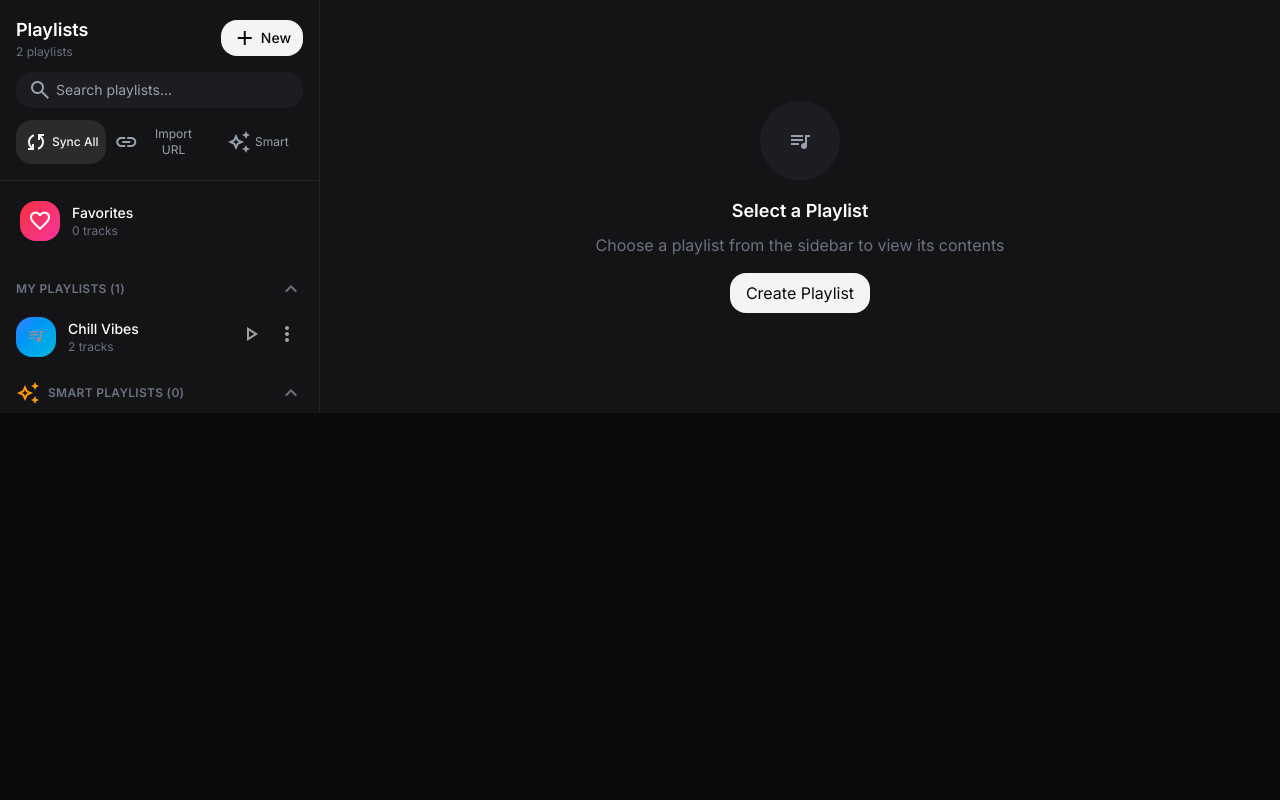
PlaylistView › Modo B queues only non-downloaded tracks via add_batch_to_queue with Library defaults
Click the element with class "group" at [36, 337], box [8,309,311,365]
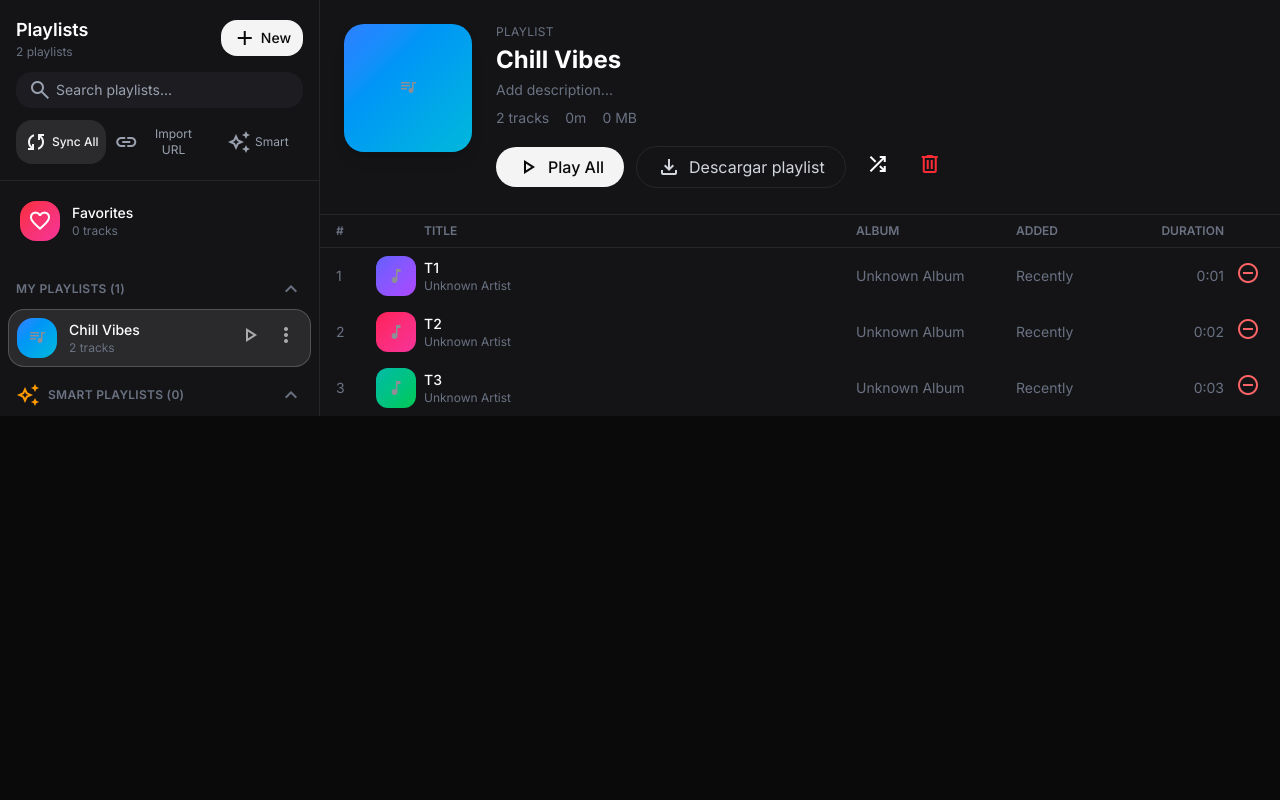
Check: the button "Descargar playlist" is shown
Click the button "Descargar playlist" at [741, 167], box [636,146,846,188]
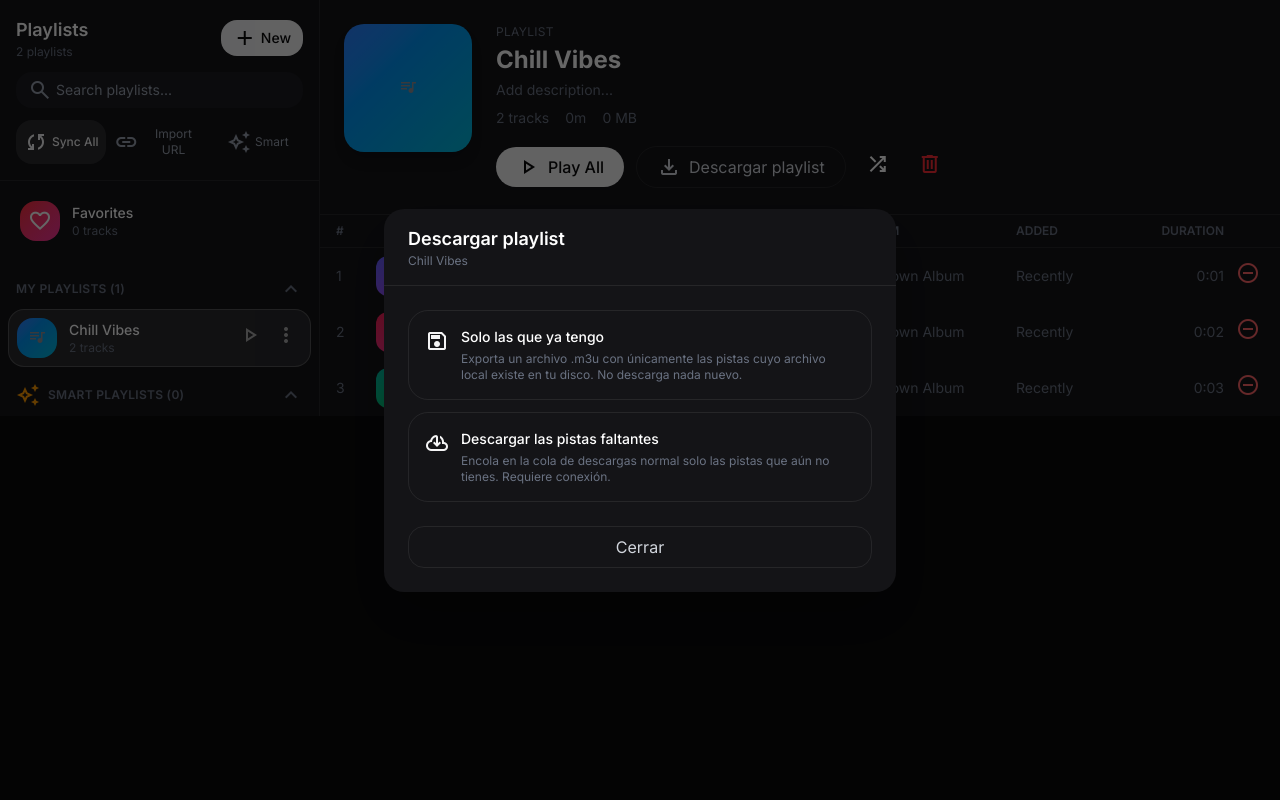
Check: the text "Solo las que ya tengo" is shown, box [461,328,604,344]
Check: the text "Exporta un archivo .m3u" is shown, box [461,350,826,382]
Check: the text "Descargar las pistas faltantes" is shown, box [461,430,659,446]
Click the button that starts with "Descargar las pistas faltantes" at [640, 456], box [408,412,872,502]
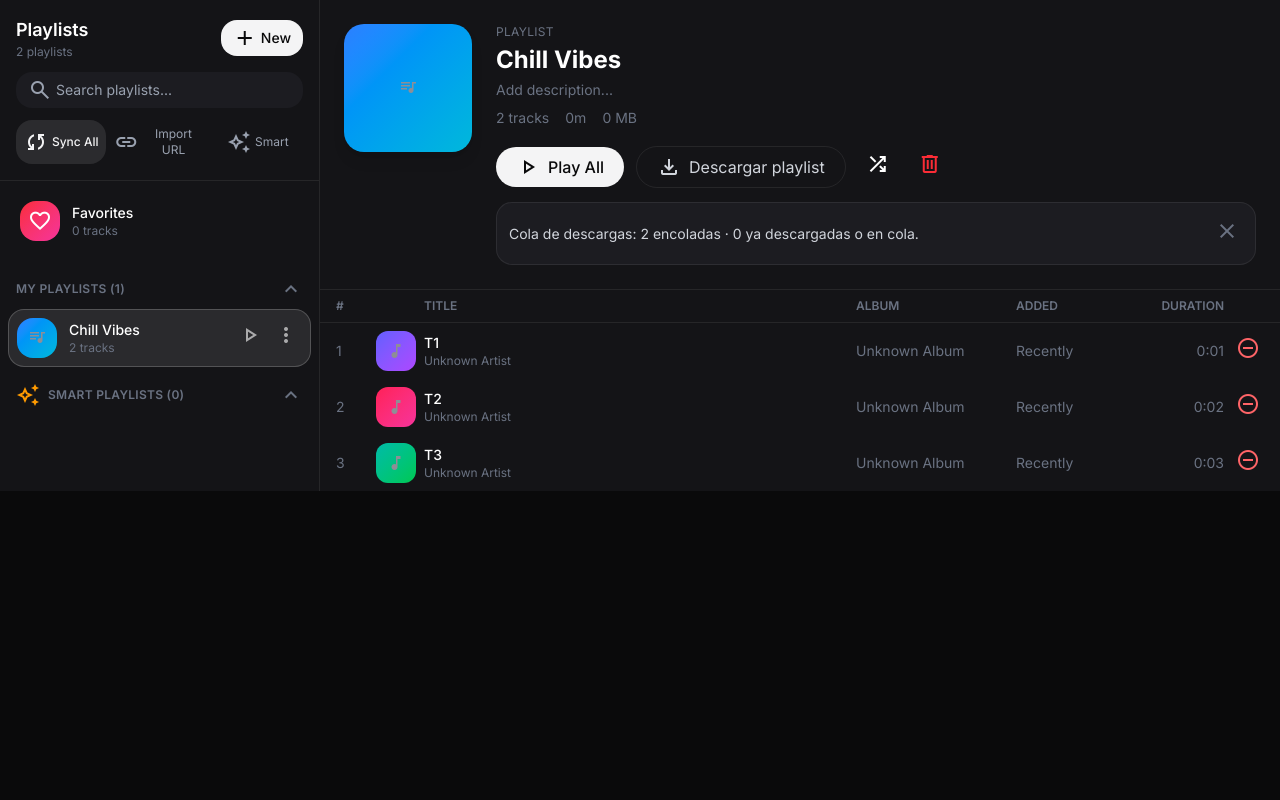
Check: the text "Cola de descargas: 2 encoladas" is shown, box [509,224,721,242]
